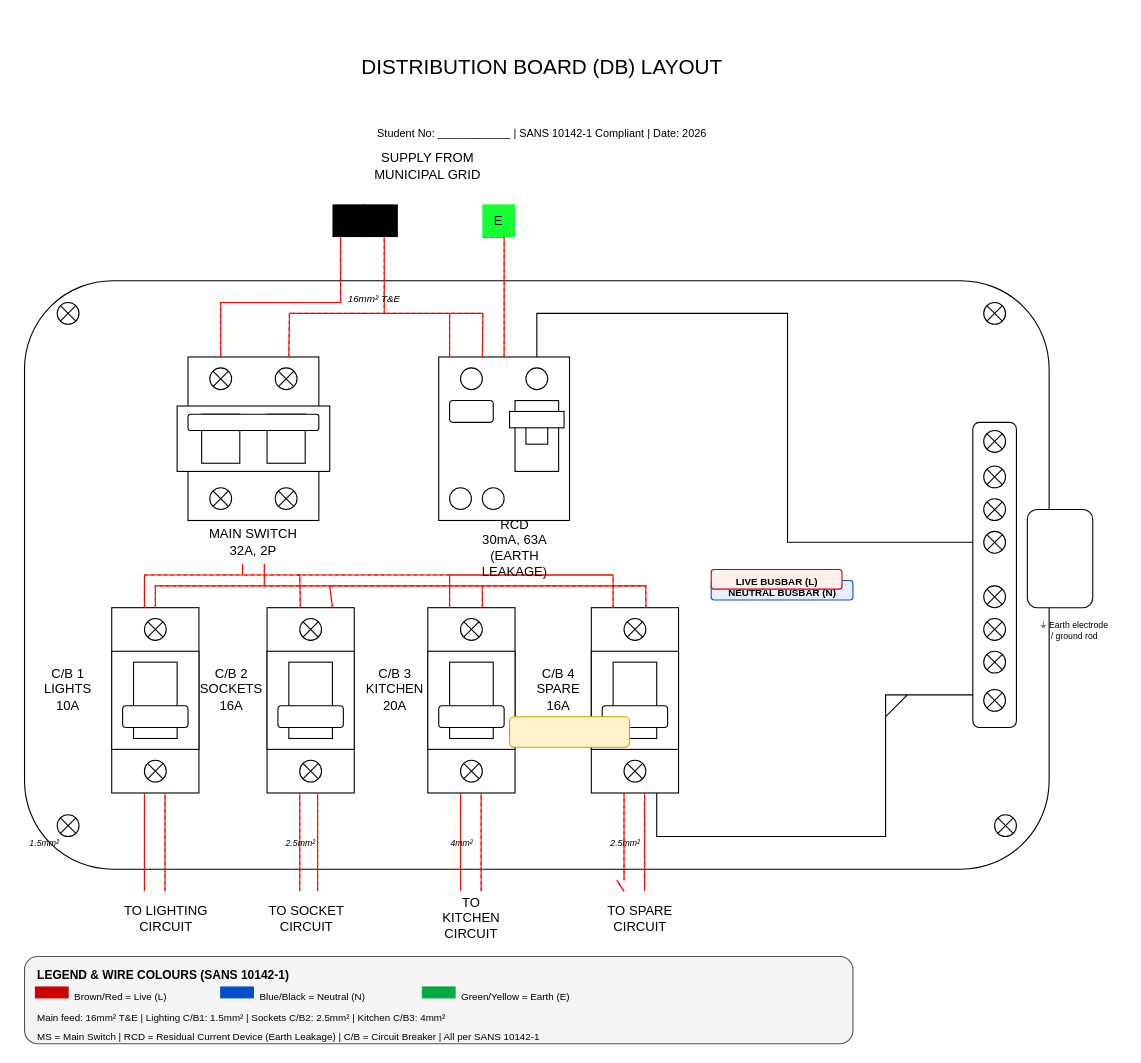
Image size: 1141x1063. Some labels were removed from this diagram. The shapes that lost their labels are listed below. From the top down, each one's centre as x and y in pixels, then its label:
the point at 1059,558: EARTH
the point at 568,731: ⚠ Recommend: Change to GEYSER 20A
